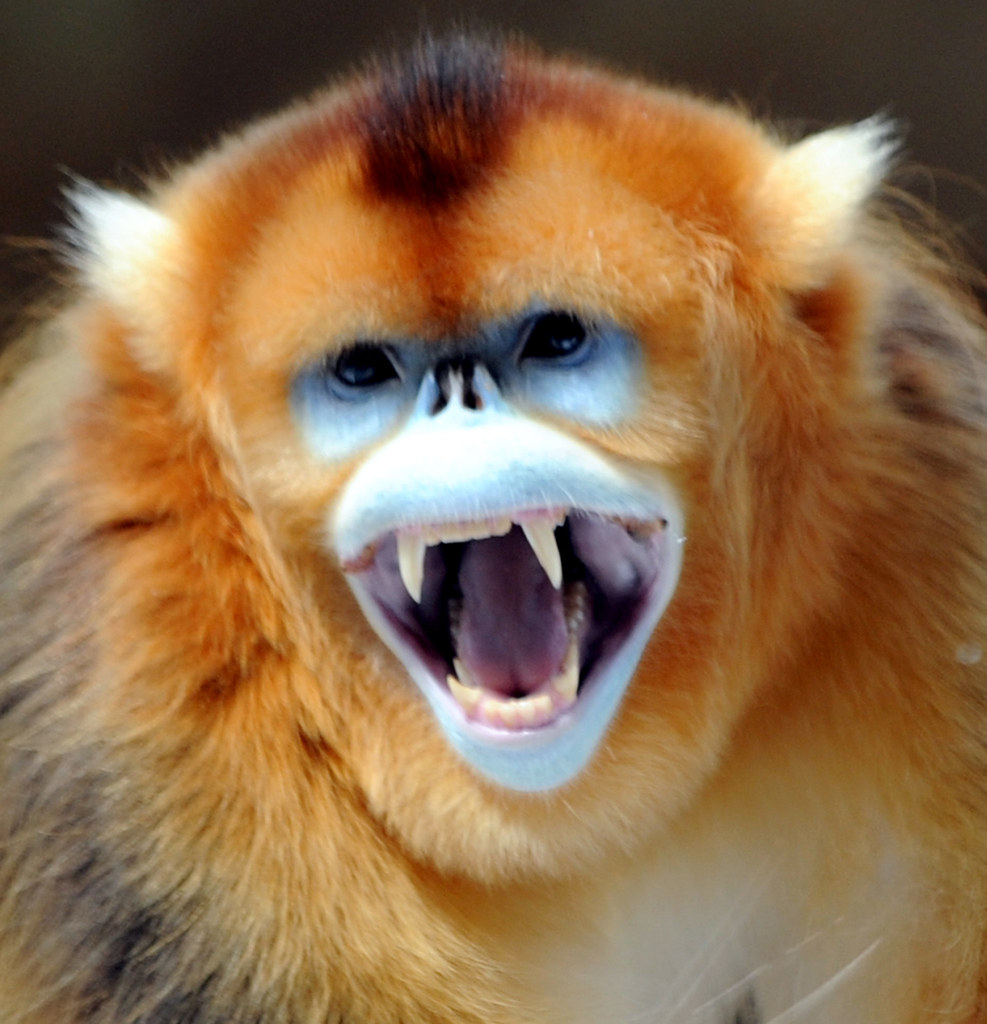GoldenSnub-Nosed: (74, 89, 937, 946)
